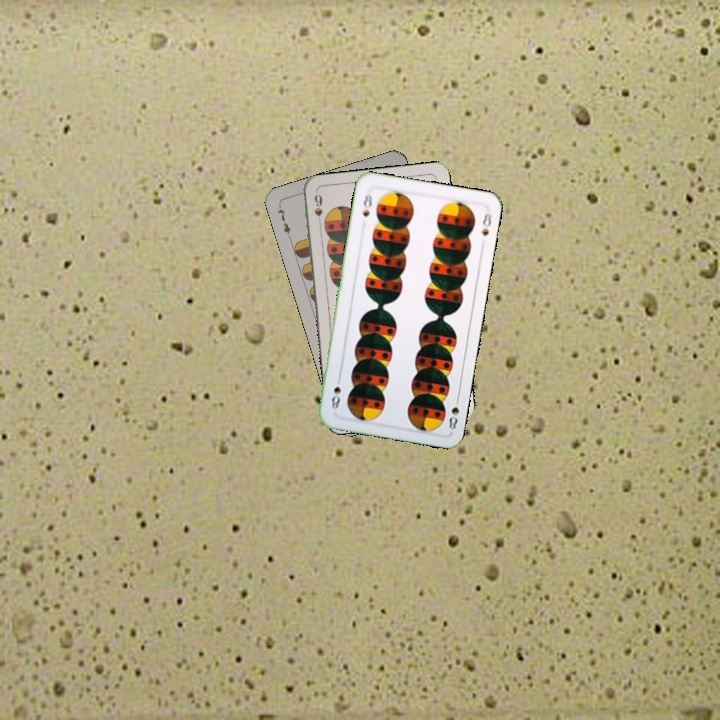E7: (274, 201, 293, 241)
S8: (445, 393, 462, 433), (359, 190, 375, 219)
S9: (310, 189, 325, 230)
